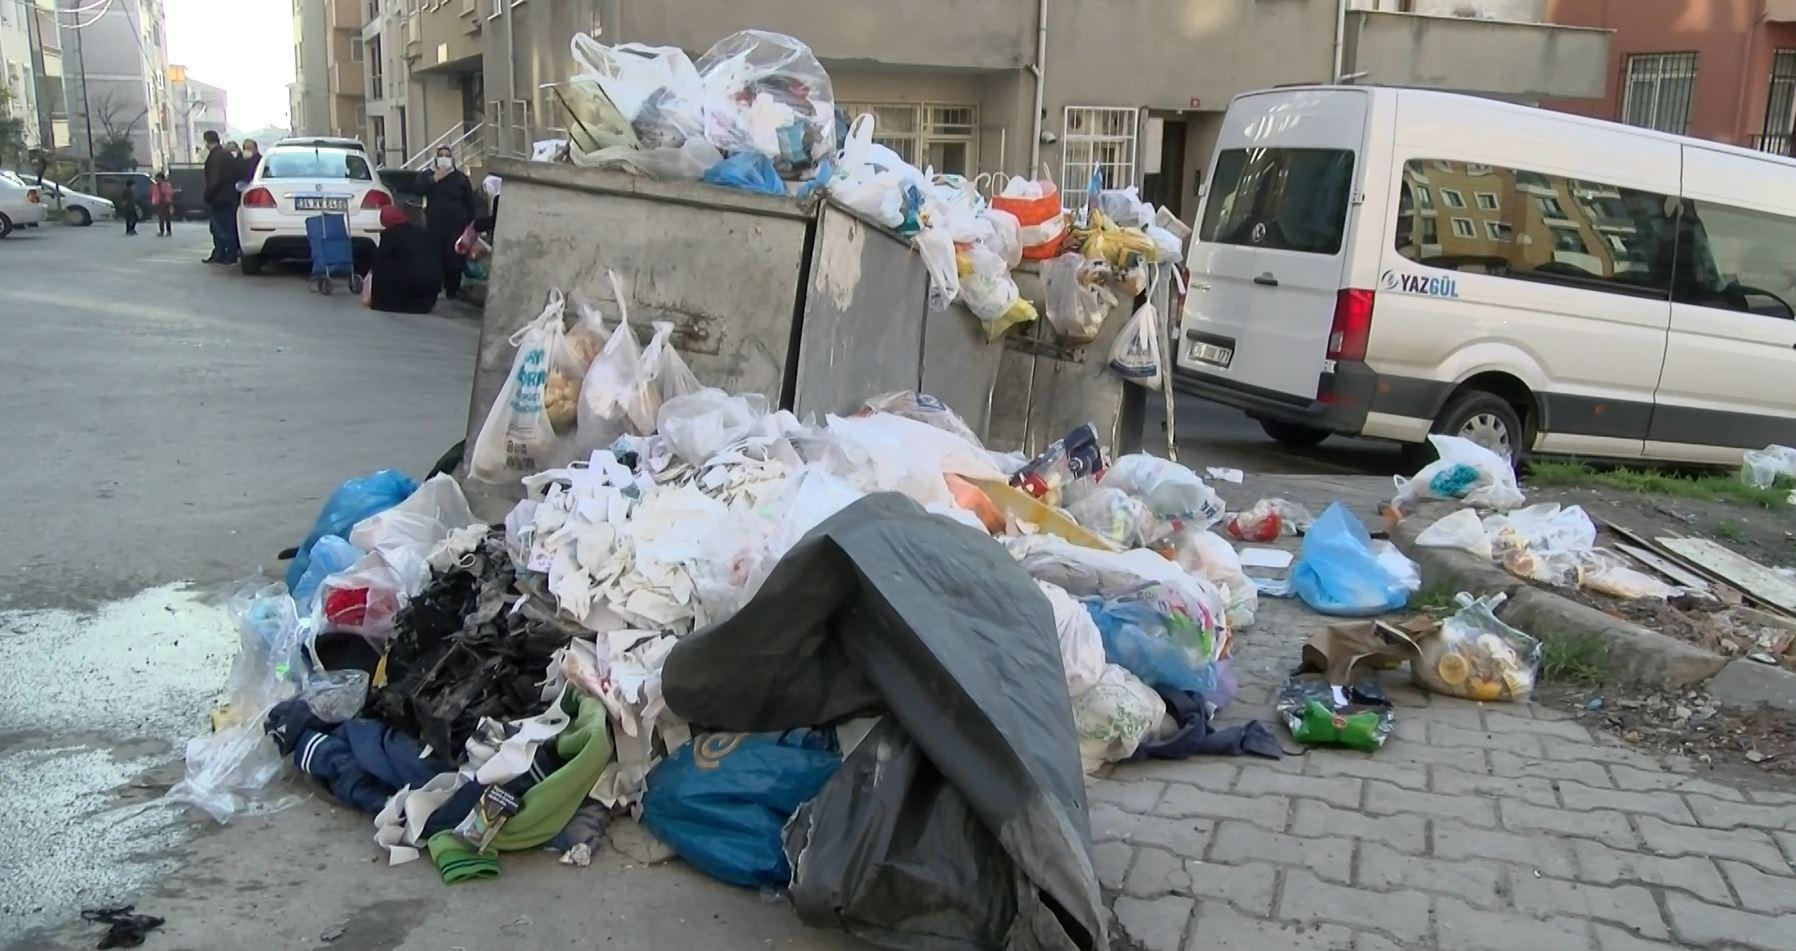Container: (479, 154, 1014, 440), (969, 274, 1161, 449)
Garbage: (165, 440, 1564, 951), (1041, 424, 1280, 771), (543, 32, 934, 180), (539, 456, 837, 643), (209, 444, 488, 638), (463, 302, 697, 509), (840, 169, 1166, 315), (1448, 500, 1667, 604), (879, 450, 1041, 591), (1414, 576, 1552, 698), (1275, 488, 1392, 613), (1373, 426, 1547, 493), (1035, 242, 1102, 343), (1121, 290, 1163, 391)
